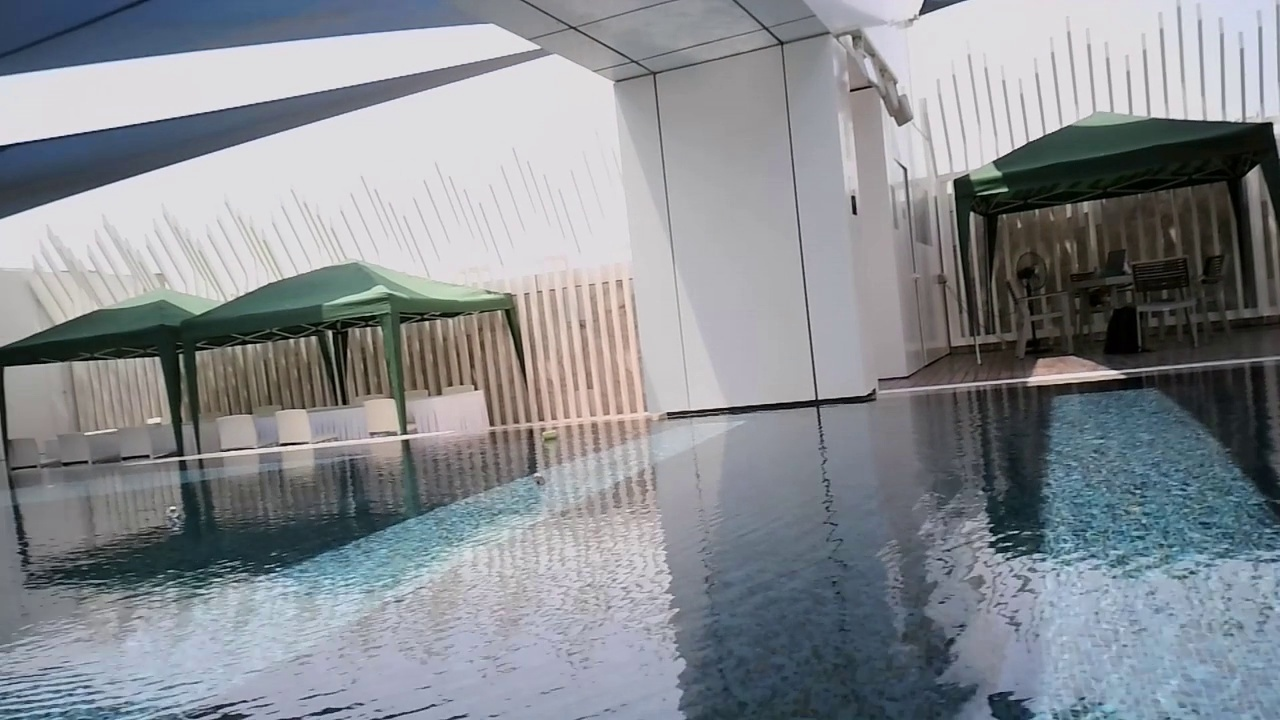debris: (161, 502, 184, 521), (537, 429, 560, 446), (529, 470, 549, 488)
